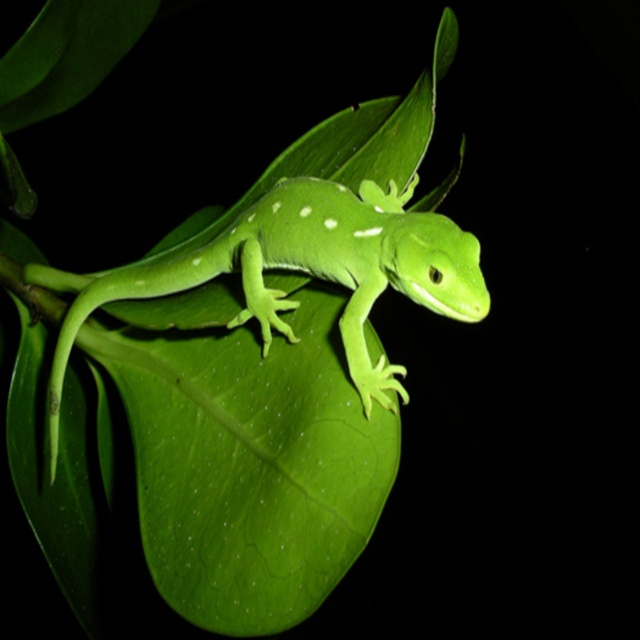Lizard: (21, 133, 497, 442)
